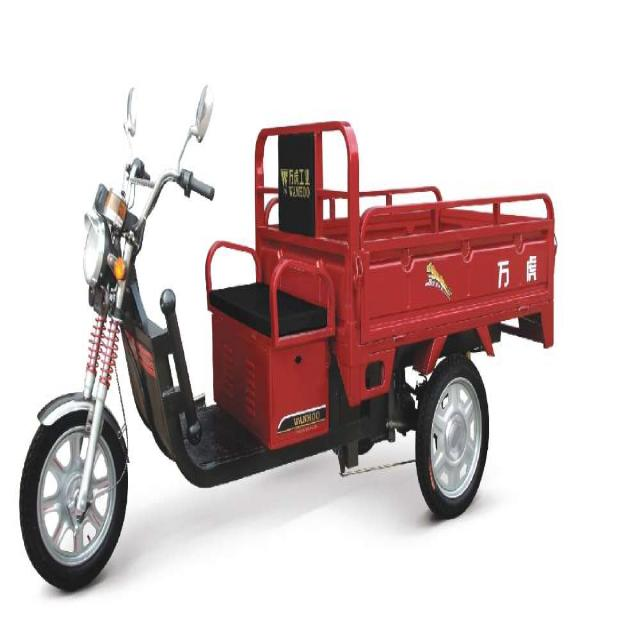tricycle: (17, 77, 558, 593)
